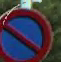No waiting: (0, 5, 53, 61)
